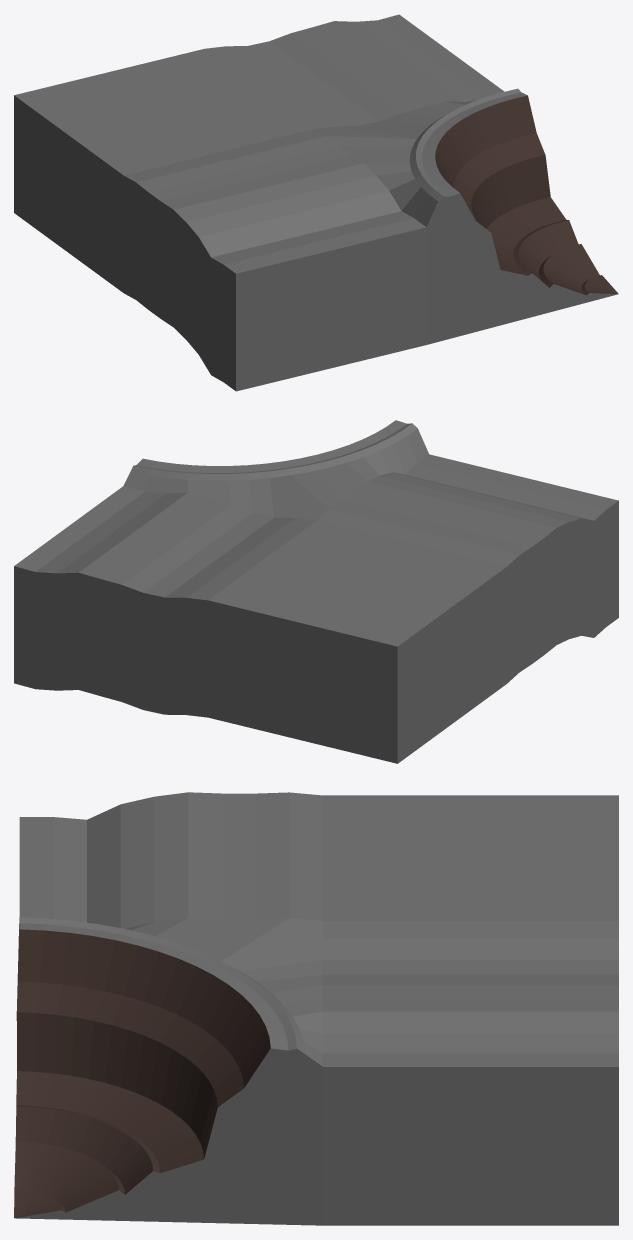
The model's file is Pit Tile Corner.fbx.
3 renders of one model, top to bottom at view 1: azimuth 30°, elevation 25°; view 2: azimuth 150°, elevation 25°; view 3: azimuth 270°, elevation 25°, orthographic. The views are drawn at different scales.
Visible parts, largest first — view 1: Corner Pit Tile; view 2: Corner Pit Tile; view 3: Corner Pit Tile.
Part boxes in pixels (x1,y1,x2,y2): Corner Pit Tile: (14,14,618,391); Corner Pit Tile: (14,420,618,763); Corner Pit Tile: (14,792,618,1225).
Bounding box in the file's own units: 198 × 71.95 × 199.
